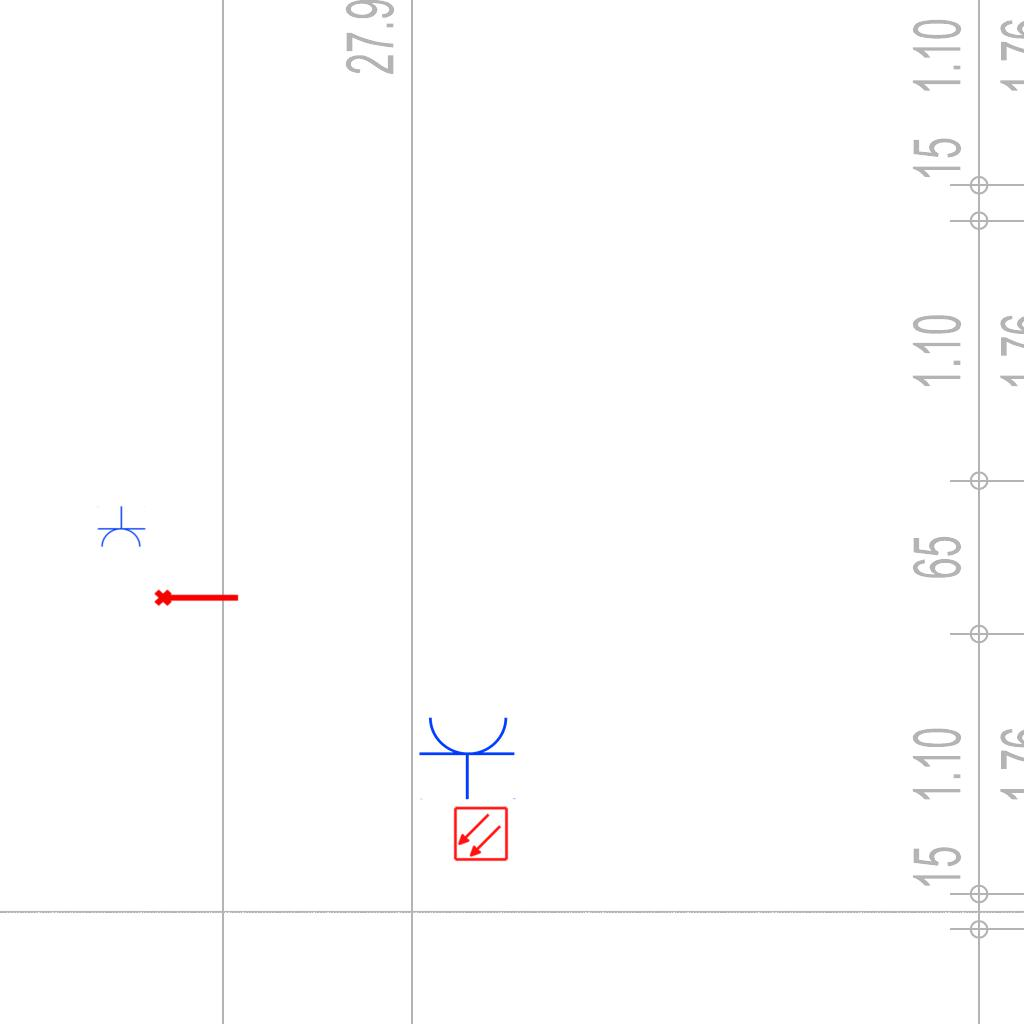ASR_Ansaugoeffnung: (153, 585, 241, 608)
RMO_Rauchmelder_optischer: (453, 806, 509, 862)
Schukosteckdose_einfach: (418, 713, 518, 800), (96, 506, 146, 549)
